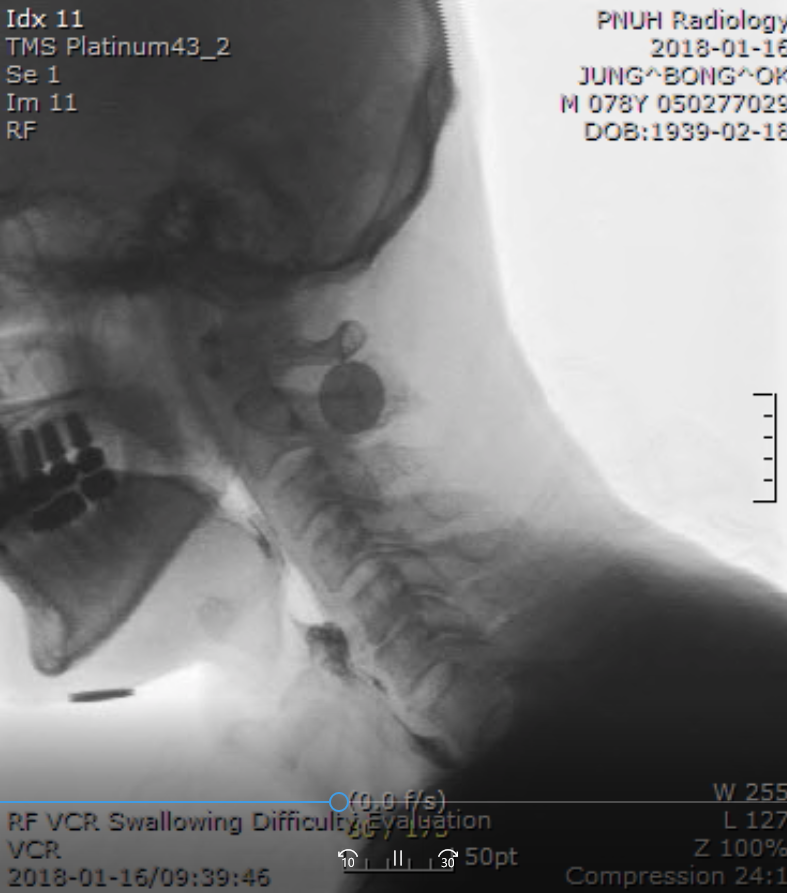dros: (285, 587, 330, 641)
food: (282, 606, 358, 681)
uros: (221, 513, 268, 562)
